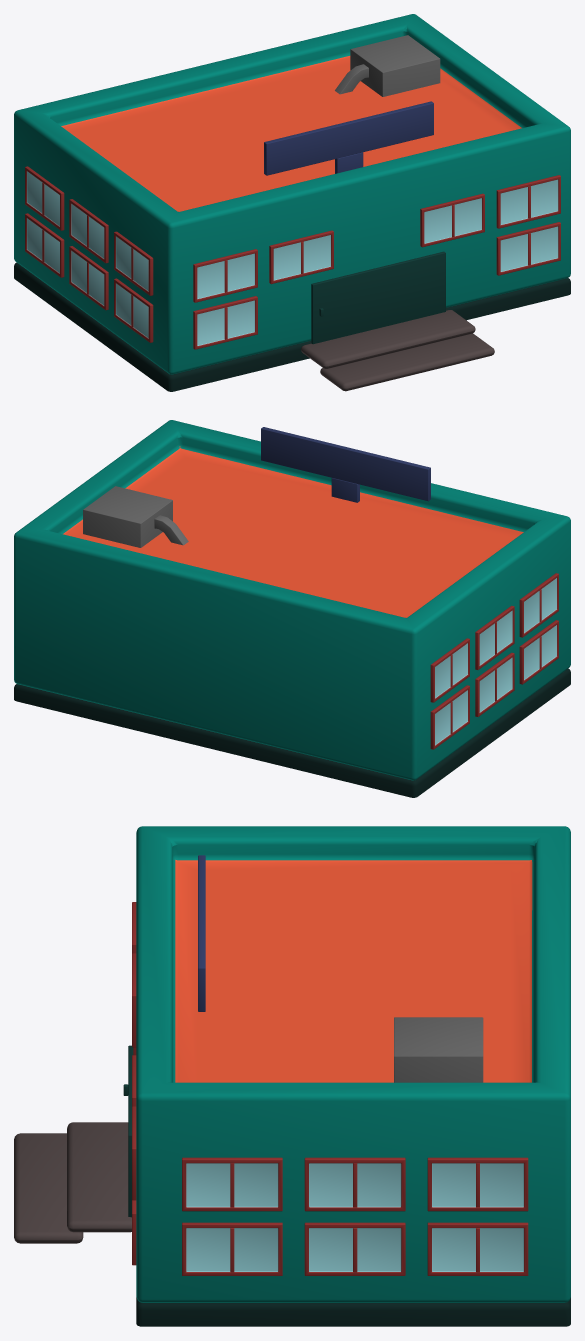
Rendered from MatematicaLevel2.fbx.
The picture shows the model from 3 angles, top to bottom: view 1: azimuth 30°, elevation 25°; view 2: azimuth 150°, elevation 25°; view 3: azimuth 270°, elevation 25°; orthographic projection. The views are drawn at different scales.
Parts seen in each view (by area): view 1: Predio_matematica_nivel_02, Janelas_predio_02; view 2: Predio_matematica_nivel_02, Janelas_predio_02; view 3: Predio_matematica_nivel_02, Janelas_predio_02.
Boxes of the visible parts, x1,y1,x2,y2 form: Predio_matematica_nivel_02: [14, 14, 570, 391]; Janelas_predio_02: [25, 35, 560, 349]; Predio_matematica_nivel_02: [14, 420, 570, 797]; Janelas_predio_02: [83, 427, 558, 749]; Predio_matematica_nivel_02: [14, 826, 570, 1326]; Janelas_predio_02: [123, 855, 528, 1275].
Bounding box in the file's own units: 1505 × 718 × 1285.
